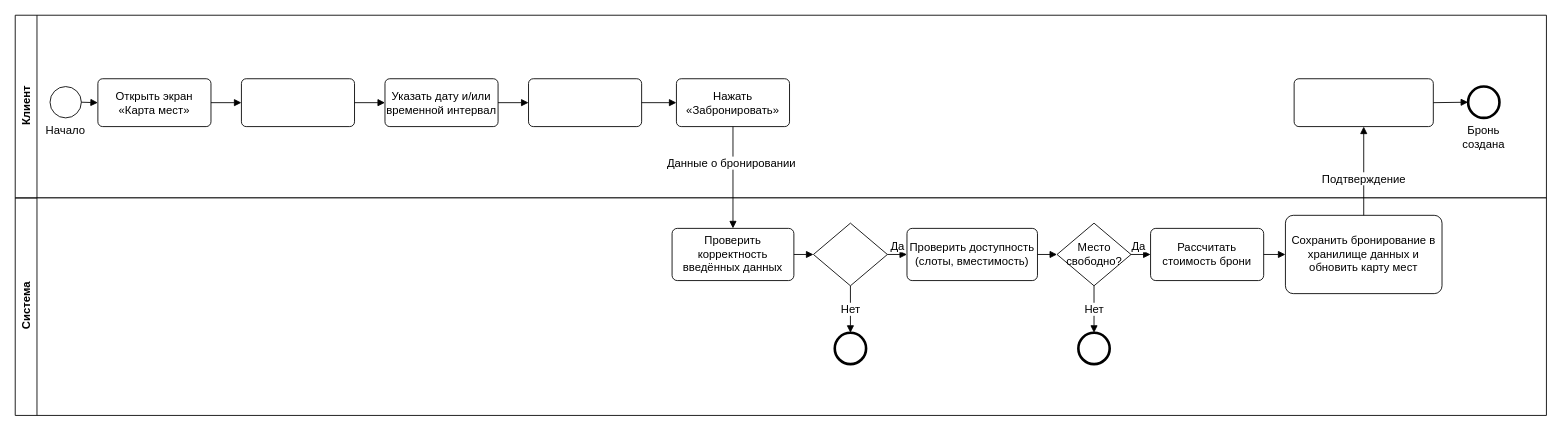
This 1562x431 diagram has some shape labels left out. Here are the shapes that lost their labels. From the top down, the centre of each, then its label:
At point (298, 102): "Выбрать рабочее место".
At point (585, 102): "Указать число мест и тариф".
At point (1363, 102): "Просмотр подтверждения брони".
At point (850, 254): "Данные верны?".
At point (850, 348): "Отказ: неверные данные".
At point (1094, 348): "Отказ: место занято".
